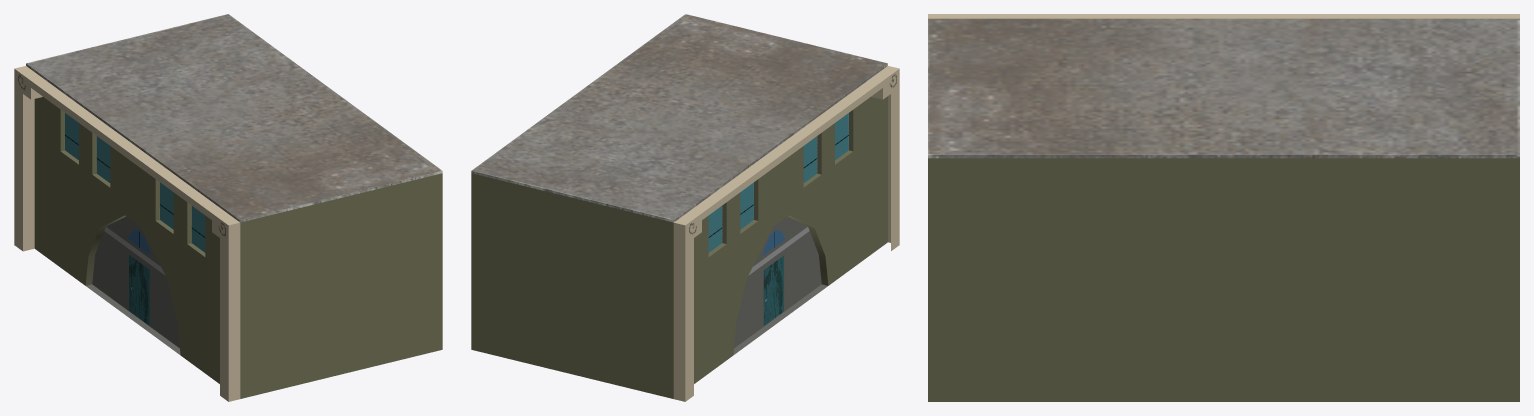
File: House6.glb
3 renders of one model, left to right at view 1: azimuth 30°, elevation 25°; view 2: azimuth 150°, elevation 25°; view 3: azimuth 270°, elevation 25°, orthographic. The views are drawn at different scales.
Visible parts, largest first — view 1: Box001; view 2: Box001; view 3: Box001.
Part boxes in pixels (left/top/right/bottom): Box001: left=14, top=14, right=442, bottom=401; Box001: left=471, top=14, right=899, bottom=401; Box001: left=928, top=14, right=1519, bottom=401.
Bounding box in the file's own units: 1.61 × 1.29 × 2.79.
Materials: 1 (1 with a texture image).
